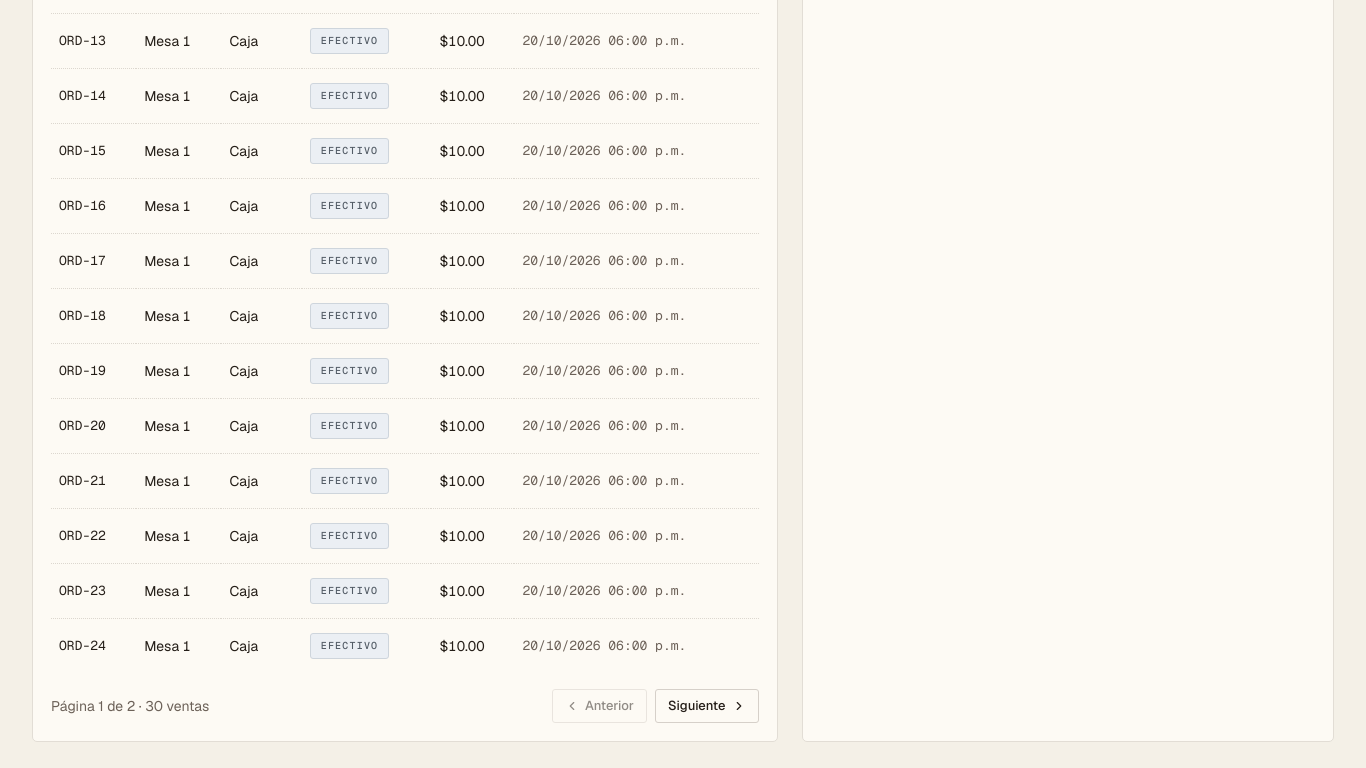
historial de ventas paginado (CAL-16) › Siguiente pide la página 1 y el resumen sigue siendo del rango completo
The width and height of the screenshot is (1366, 768).
(page scrolled)
Click the button "Siguiente" at (707, 706), box left=655, top=689, right=758, bottom=723
(page scrolled)
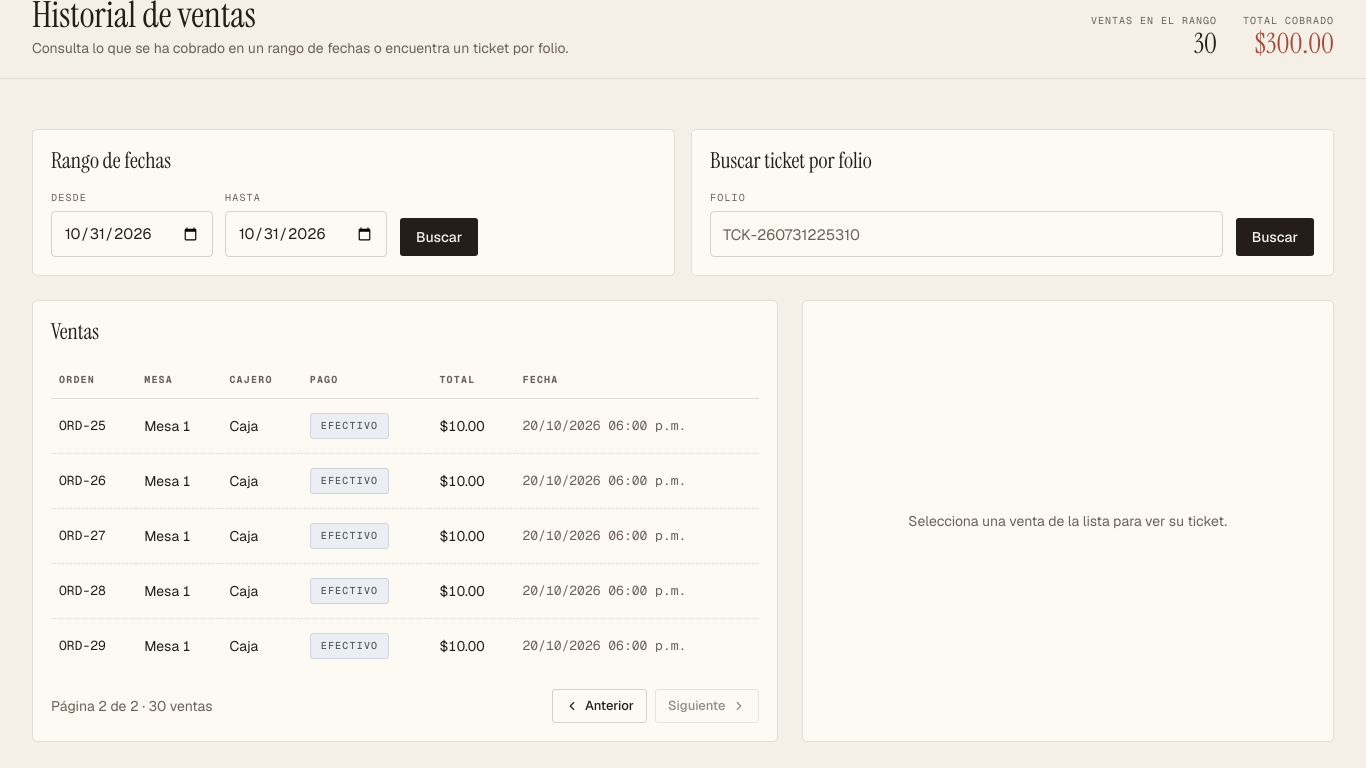
Expected: the text "30" is shown, left=1194, top=25, right=1217, bottom=62
Expected: the text "ORD-25" is shown, left=51, top=398, right=136, bottom=453
Expected: the text "Página 2 de 2 · 30 ventas" is shown, left=51, top=696, right=212, bottom=716
